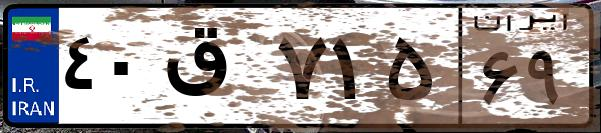0: (110, 28, 158, 98)
1: (330, 28, 385, 110)
4: (57, 26, 110, 100)
5: (385, 28, 445, 110)
6: (475, 38, 525, 113)
7: (270, 28, 330, 110)
9: (525, 38, 570, 115)
ق: (158, 20, 270, 120)
